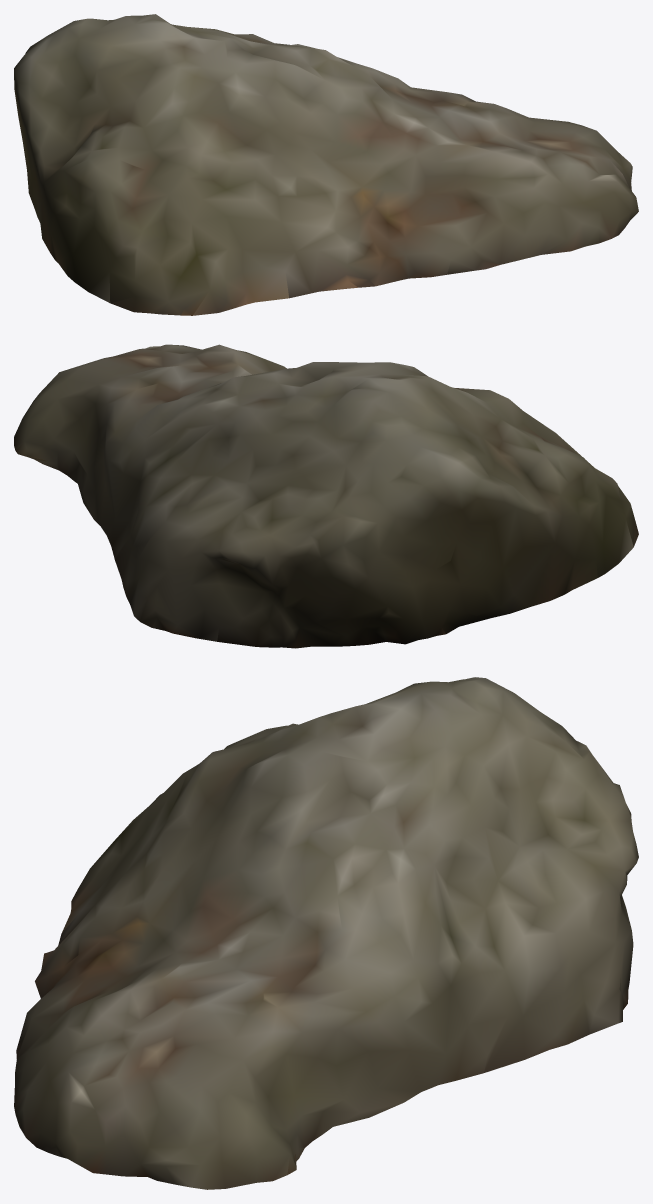
The model's file is SM_Rock_04.fbx.
3 views of the same model, one above another, from view 1: azimuth 30°, elevation 25°; view 2: azimuth 150°, elevation 25°; view 3: azimuth 270°, elevation 25° (orthographic). The views are drawn at different scales.
Parts seen in each view (by area): view 1: Rock_04_LOW.001; view 2: Rock_04_LOW.001; view 3: Rock_04_LOW.001.
Boxes of the visible parts, left/top/right/bottom form: Rock_04_LOW.001: left=14, top=14, right=638, bottom=315; Rock_04_LOW.001: left=14, top=344, right=638, bottom=648; Rock_04_LOW.001: left=14, top=677, right=638, bottom=1189.
Size of the model in its own units: 557 by 184 by 432.
